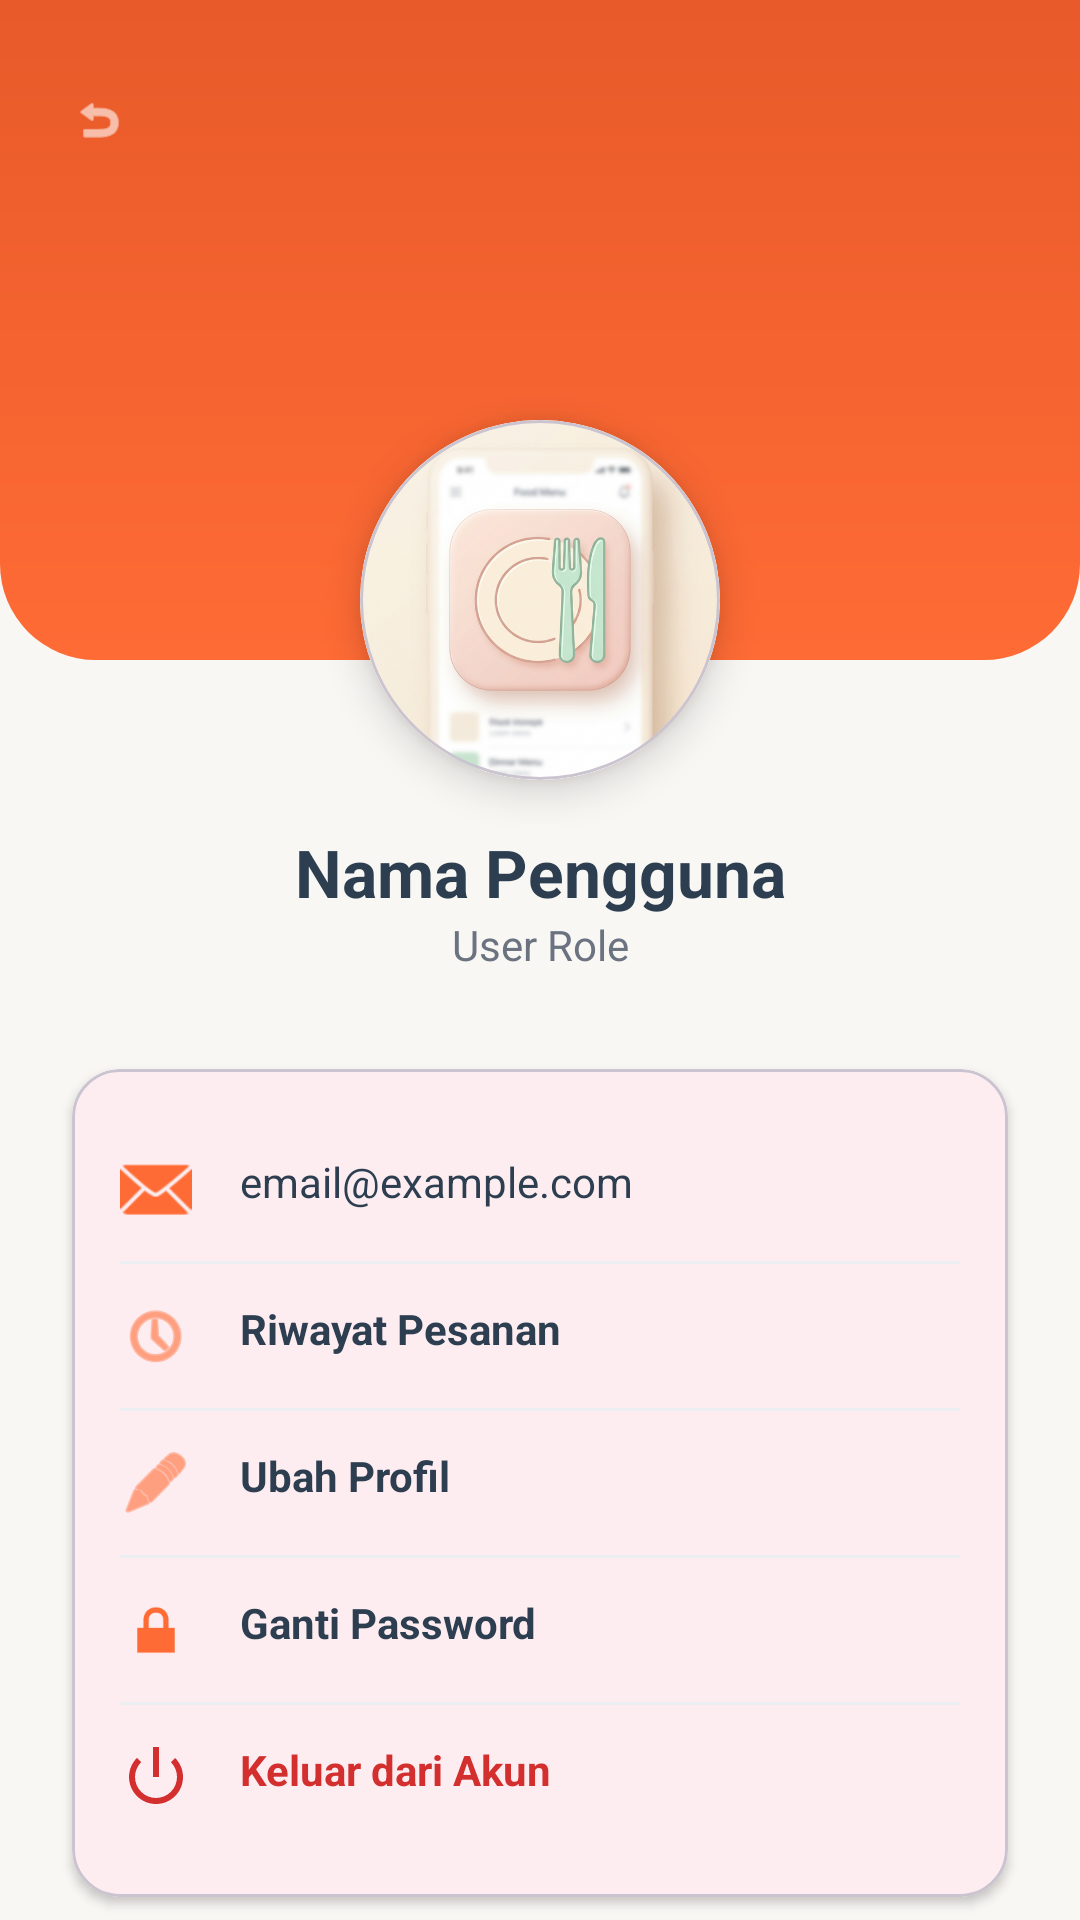

Named icons in this screenshot (1080w x 1920h) and their bounding boxes, (left=x1, top=y1, right=x2, bottom=y2):
edit: (left=125, top=1452, right=186, bottom=1513)
lock: (left=137, top=1607, right=175, bottom=1653)
lock power off: (left=129, top=1747, right=183, bottom=1804)
recent history: (left=130, top=1310, right=182, bottom=1362)
revert: (left=80, top=103, right=119, bottom=138)
